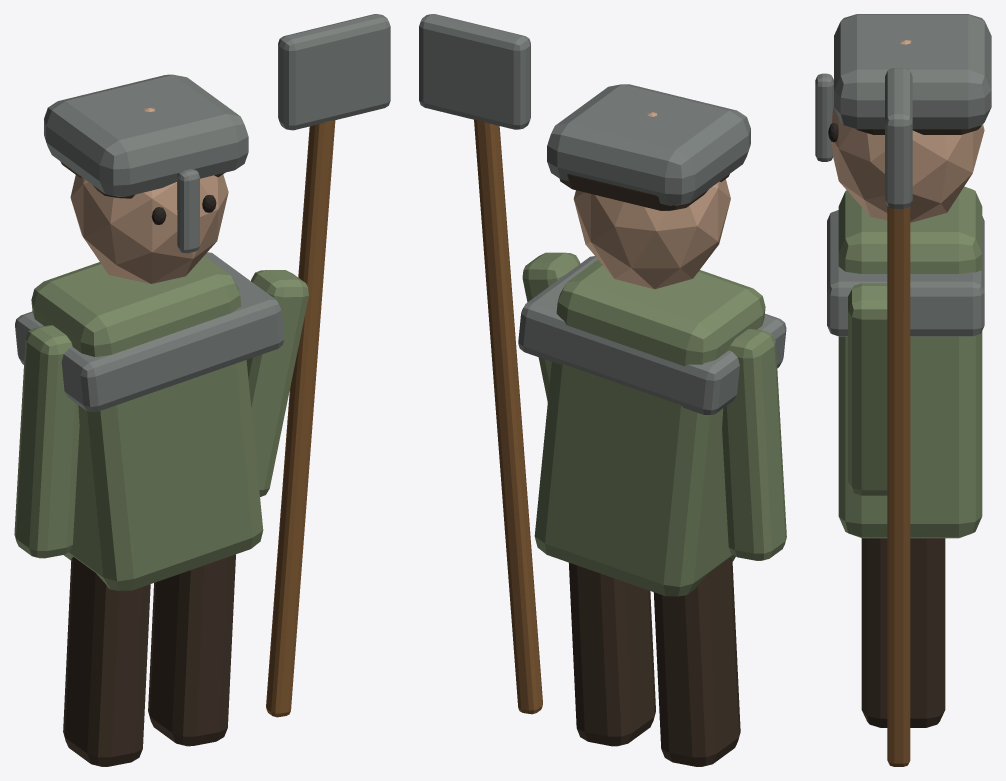
The model's file is lazy_guard_3997.glb.
3 views of the same model, side by side, from view 1: azimuth 30°, elevation 25°; view 2: azimuth 150°, elevation 25°; view 3: azimuth 270°, elevation 25° (orthographic). The views are drawn at different scales.
Parts seen in each view (by area): view 1: Leaning uniform coat, Guard helmet, Halberd shaft, Guard boot and leg, Guard boot and leg.001, Shoulder armor, Guard arm, Halberd axe blade, Head, Halberd grip arm, Nose guard; view 2: Leaning uniform coat, Guard helmet, Halberd shaft, Guard boot and leg, Guard boot and leg.001, Guard arm, Shoulder armor, Head, Halberd axe blade, Halberd grip arm, Hair cap; view 3: Leaning uniform coat, Guard helmet, Halberd shaft, Guard boot and leg.001, Head, Halberd grip arm, Shoulder armor, Halberd axe blade, Nose guard, Hair cap.
Boxes of the visible parts, box(x1,y1,x2,y2) form: Leaning uniform coat: box(31, 256, 263, 590); Guard helmet: box(44, 74, 248, 196); Halberd shaft: box(266, 120, 335, 717); Guard boot and leg: box(63, 557, 150, 766); Guard boot and leg.001: box(148, 554, 235, 746); Shoulder armor: box(15, 252, 284, 411); Guard arm: box(14, 325, 79, 558); Halberd axe blade: box(278, 14, 390, 130); Head: box(70, 107, 228, 283); Halberd grip arm: box(246, 270, 308, 496); Nose guard: box(177, 169, 199, 253); Leaning uniform coat: box(534, 260, 765, 596); Guard helmet: box(547, 84, 750, 205); Halberd shaft: box(474, 120, 542, 714); Guard boot and leg: box(653, 557, 740, 766); Guard boot and leg.001: box(569, 562, 655, 746); Guard arm: box(722, 329, 786, 560); Shoulder armor: box(518, 256, 786, 414); Head: box(573, 112, 730, 289); Halberd axe blade: box(419, 14, 530, 129); Halberd grip arm: box(522, 252, 580, 401); Hair cap: box(559, 174, 729, 210); Leaning uniform coat: box(838, 186, 982, 538); Guard helmet: box(834, 14, 991, 129); Halberd shaft: box(887, 206, 910, 766); Guard boot and leg.001: box(861, 538, 945, 727); Head: box(831, 39, 984, 222); Halberd grip arm: box(848, 283, 887, 495); Shoulder armor: box(827, 210, 984, 336); Halberd axe blade: box(885, 68, 912, 208); Nose guard: box(815, 73, 833, 161); Hair cap: box(856, 125, 981, 134).
Bounding box in the file's own units: 1.87 × 3.35 × 0.76.
